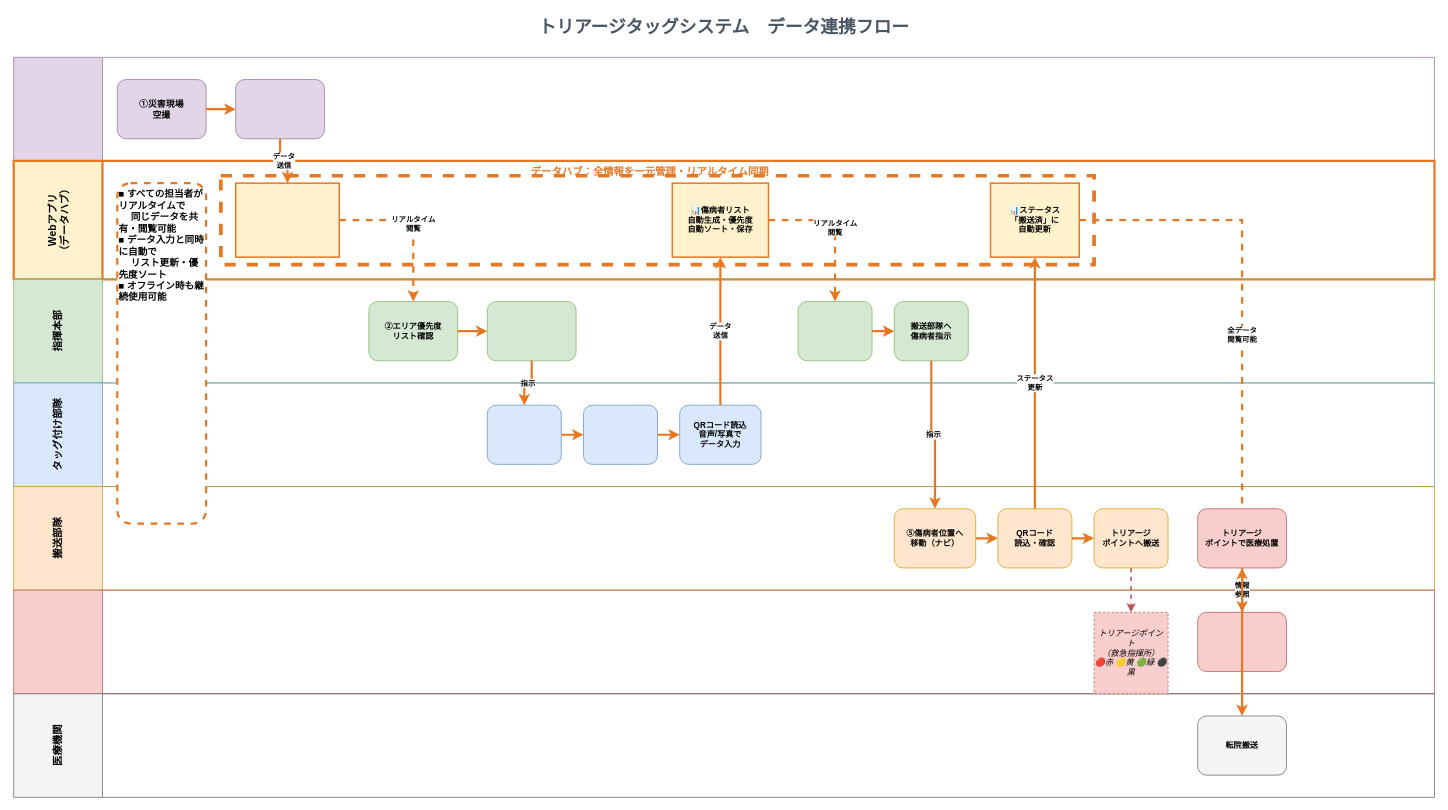
Some shapes in this 1448 by 810 pixel diagram are drawn without their labels. Here are the shapes that lost their labels. From the top down, the box of each, then its label:
(235, 79, 324, 139): AI画像解析 エリア優先度 自動判定
(13, 57, 1434, 161): ドローン/AIシステム
(235, 182, 340, 258): 📊エリア優先度リスト 自動生成・保存
(487, 301, 576, 361): タッグ付け部隊へ エリア指示
(797, 301, 872, 361): ④傷病者 優先度リスト 確認
(487, 404, 561, 464): ③指定エリア へ移動
(583, 404, 657, 464): 傷病者に トリアージタッグ 装着
(13, 589, 1434, 694): DMAT
(1197, 612, 1286, 672): ⑥傷病者情報 リアルタイム確認
